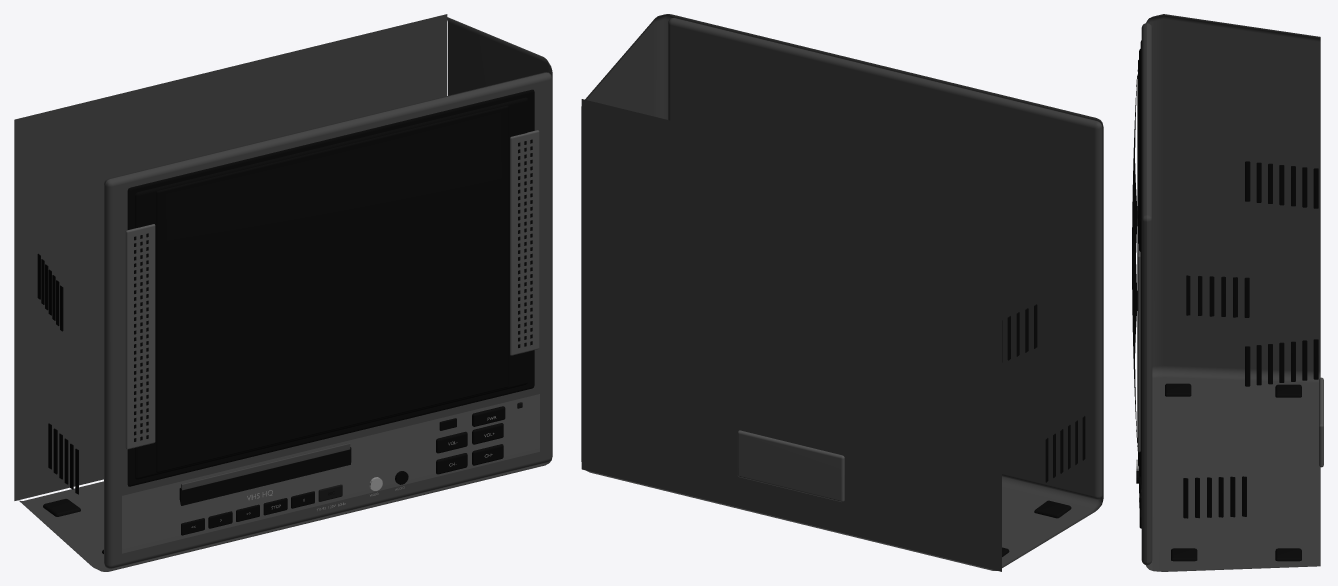
File: KBM_TV93_Viewpoint.FBX
3 views of the same model, side by side, from view 1: azimuth 30°, elevation 25°; view 2: azimuth 150°, elevation 25°; view 3: azimuth 270°, elevation 25° (orthographic). The views are drawn at different scales.
Parts seen in each view (by area): view 1: KBM_TV93_Viewpoint; view 2: KBM_TV93_Viewpoint; view 3: KBM_TV93_Viewpoint.
Boxes of the visible parts, box(x1,y1,x2,y2) form: KBM_TV93_Viewpoint: box(14, 14, 552, 571); KBM_TV93_Viewpoint: box(581, 14, 1103, 571); KBM_TV93_Viewpoint: box(1132, 14, 1323, 571).
Size of the model in its own units: 0.75 by 0.6382 by 0.3022.
